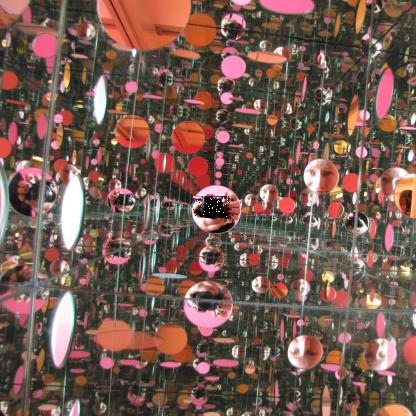Camera: (195, 197, 233, 220)
